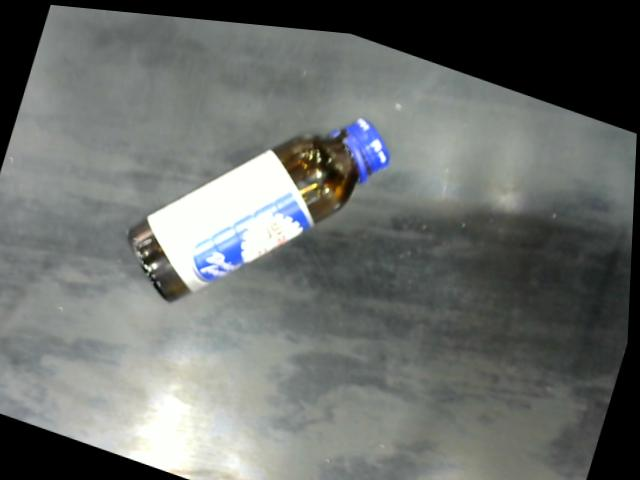glass: (130, 105, 400, 303)
